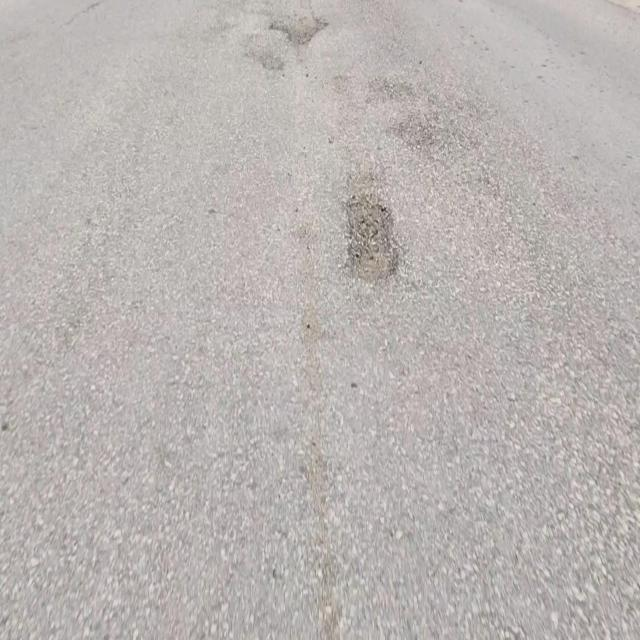Potholes: (347, 191, 400, 292), (269, 0, 330, 50)
